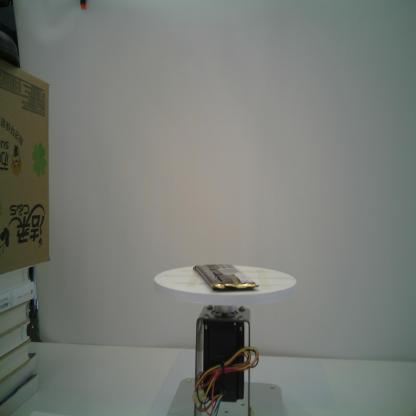Chocolate: (192, 261, 261, 292)
